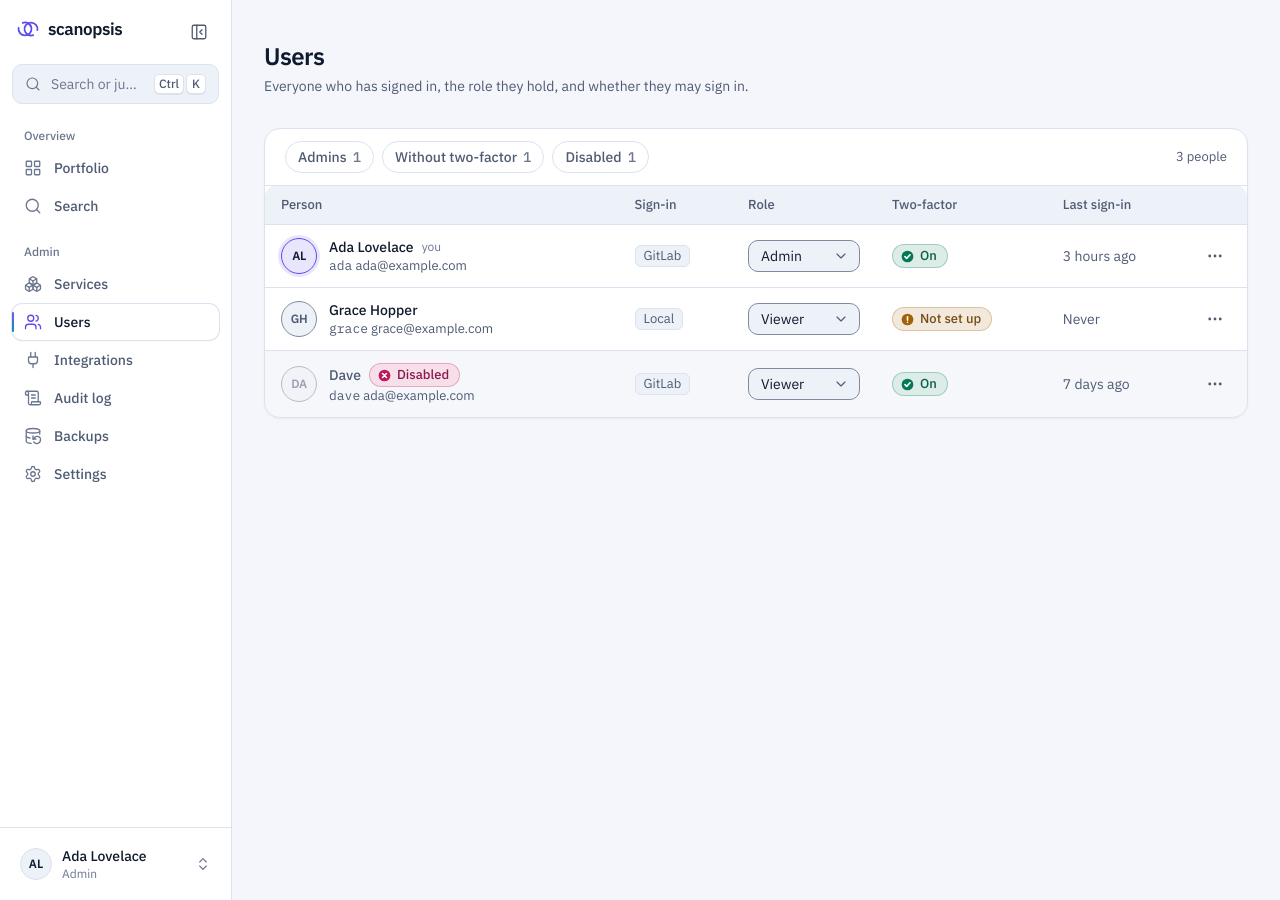
Scenario: users page › filters by admins, people without two-factor and disabled people
Expected: the table named "Users" is shown, [265, 186, 1247, 417]
Expected: the button "Without two-factor 1" is shown, [382, 141, 544, 173]
Click the button "Admins 1": [330, 157] box [285, 141, 374, 173]
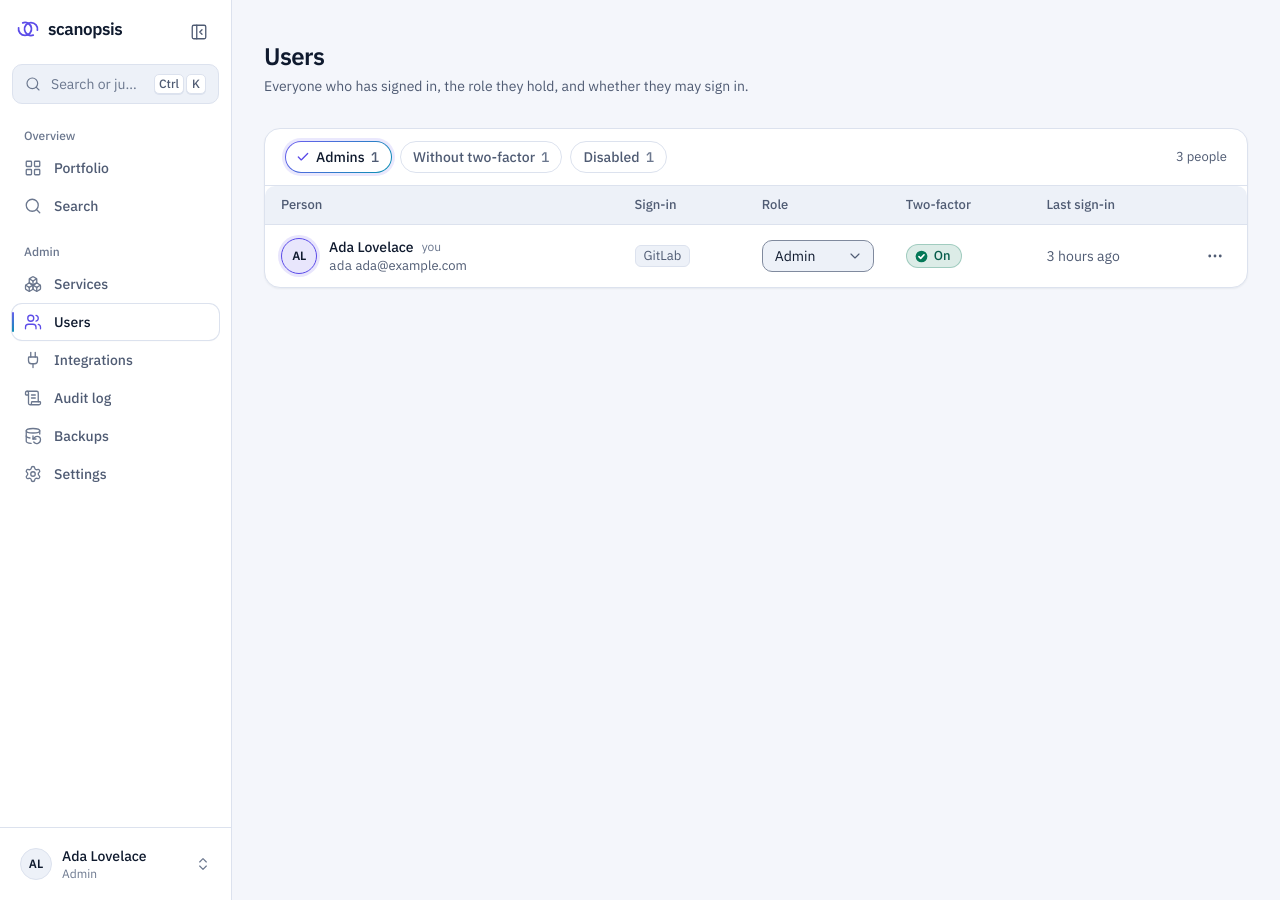
Expected: the number of rows is 2, [265, 186, 1247, 225]; [265, 225, 1247, 287]
Now the button "Admins 1" is pressed
Click the button "Admins 1": [338, 157] box [285, 141, 392, 173]
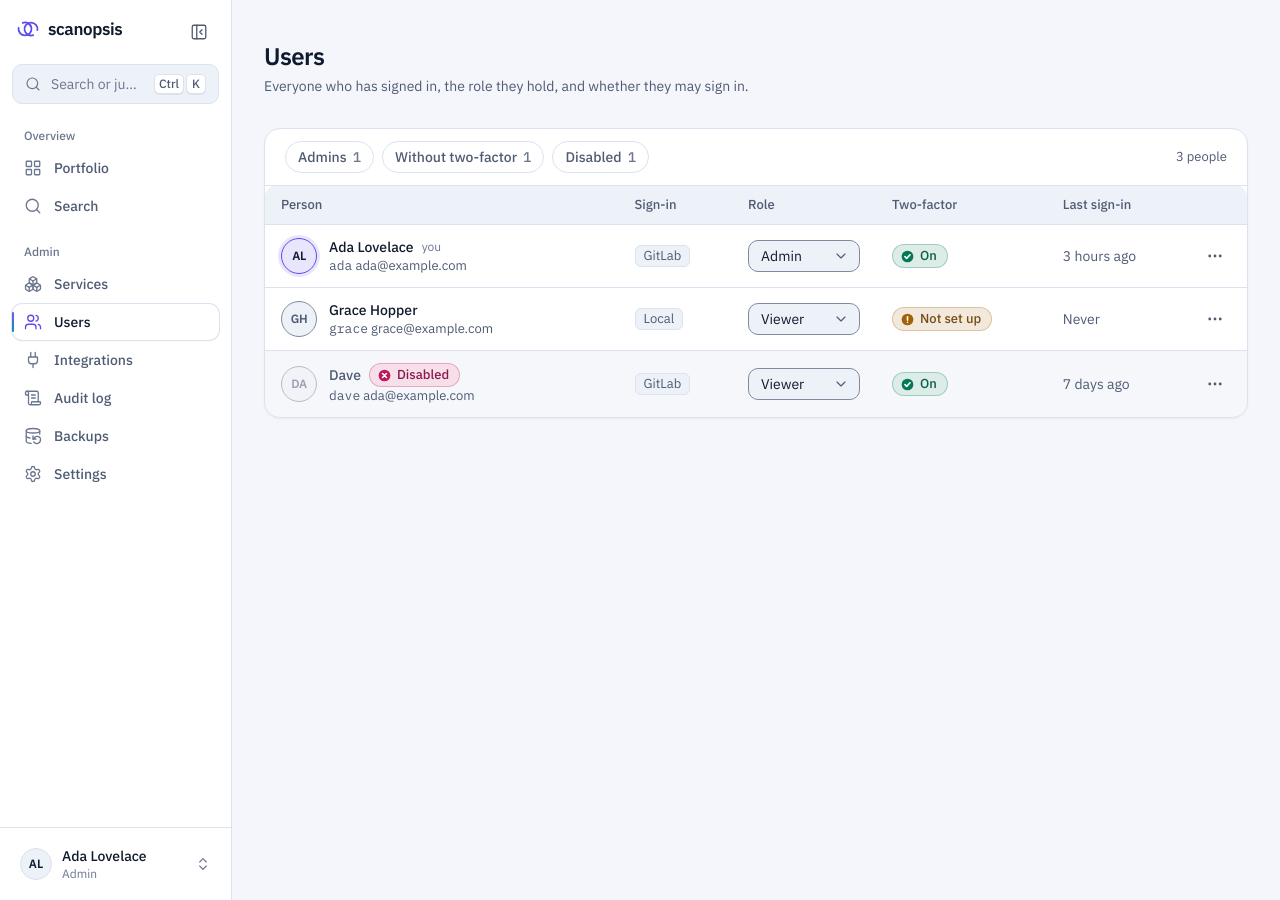
Click the button "Without two-factor 1": [463, 157] box [382, 141, 544, 173]
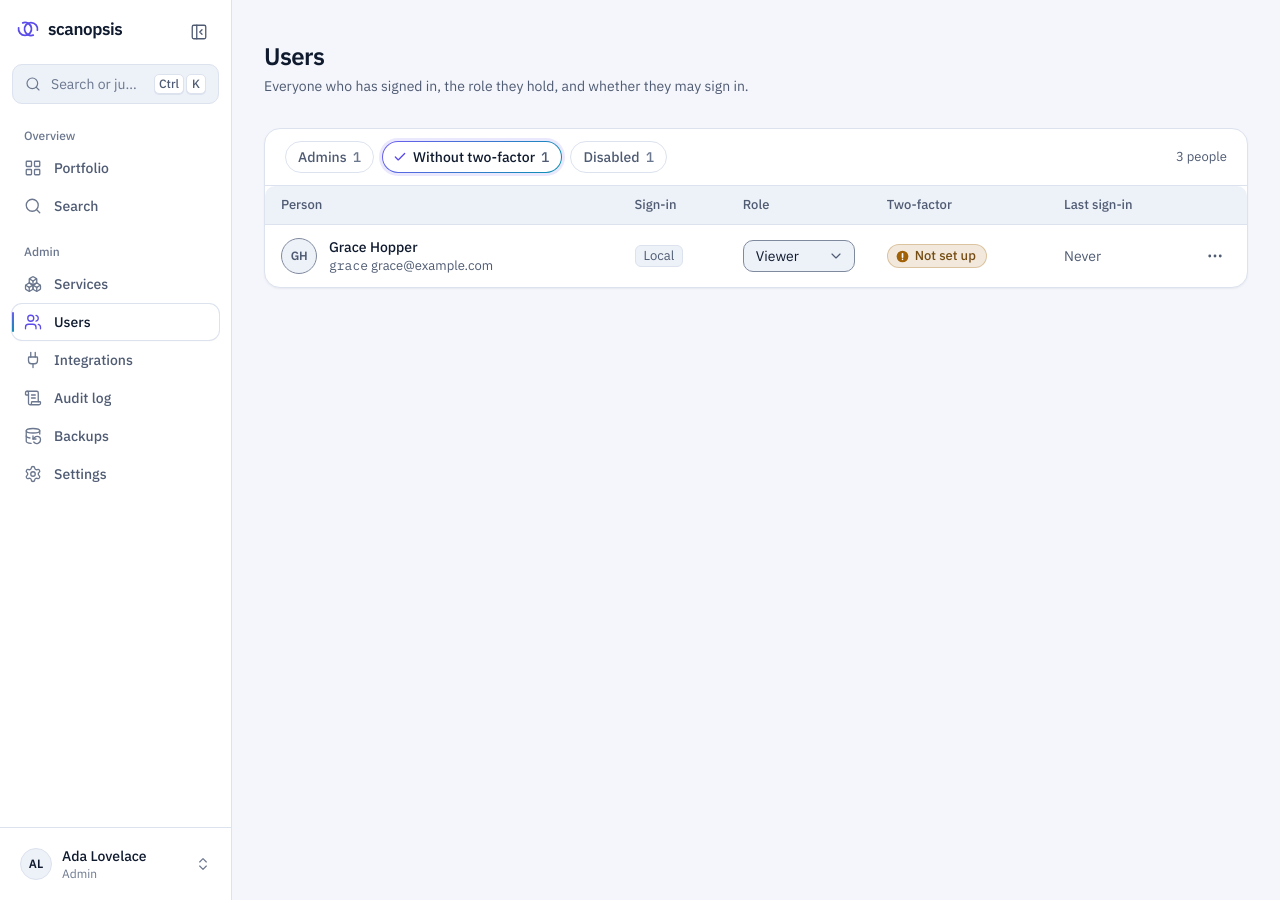
Expected: the number of rows is 2, [265, 186, 1247, 225]; [265, 225, 1247, 287]
Now the row "Grace Hopper" is shown, box [265, 225, 1247, 287]
Filters combine: nobody is both without two-factor and disabled.
Click the button "Disabled 1": [619, 157] box [570, 141, 667, 173]
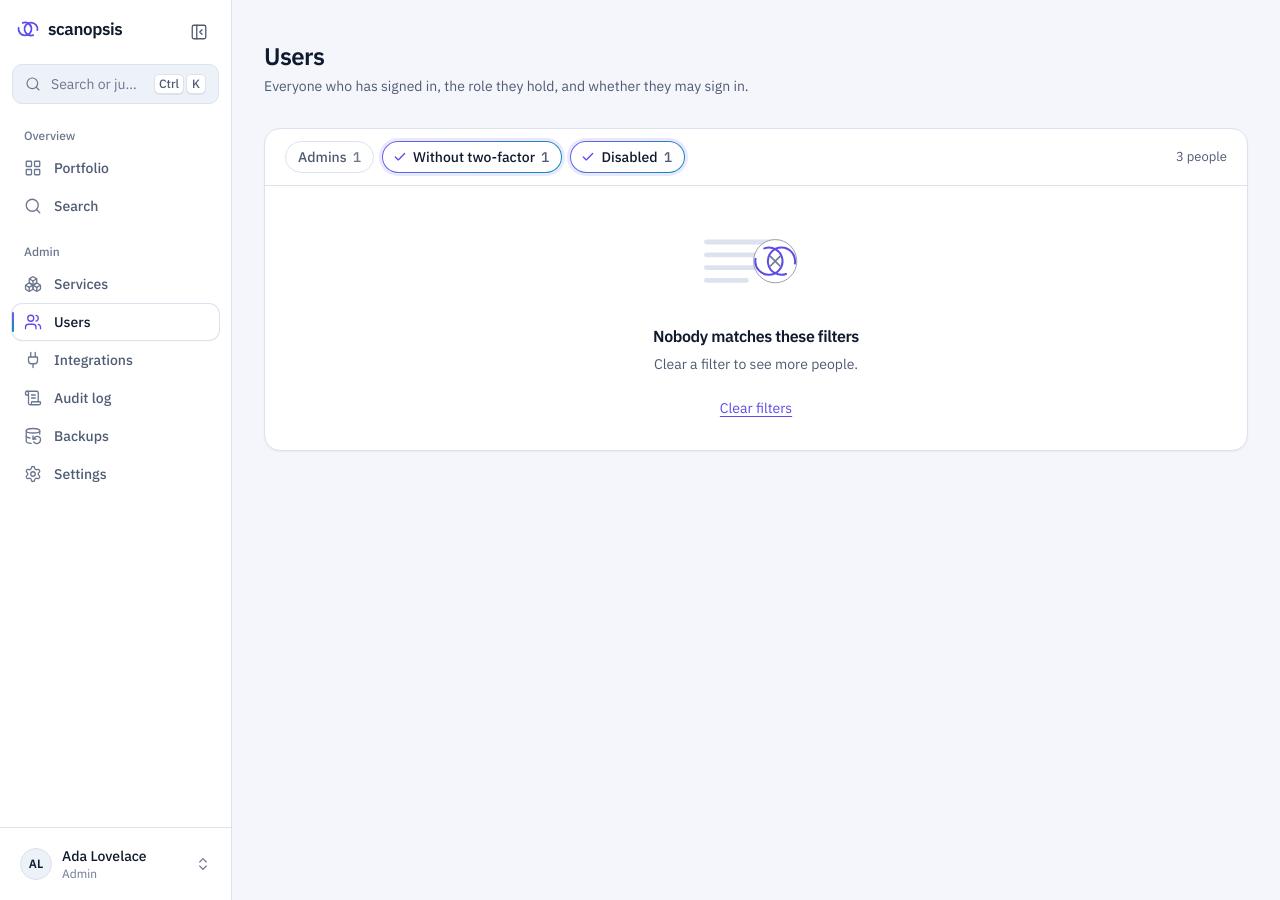
Now the table is gone
Now the heading "Nobody matches these filters" is shown, box [653, 324, 859, 348]
Click the button "Clear filters": [756, 408] box [720, 398, 792, 418]
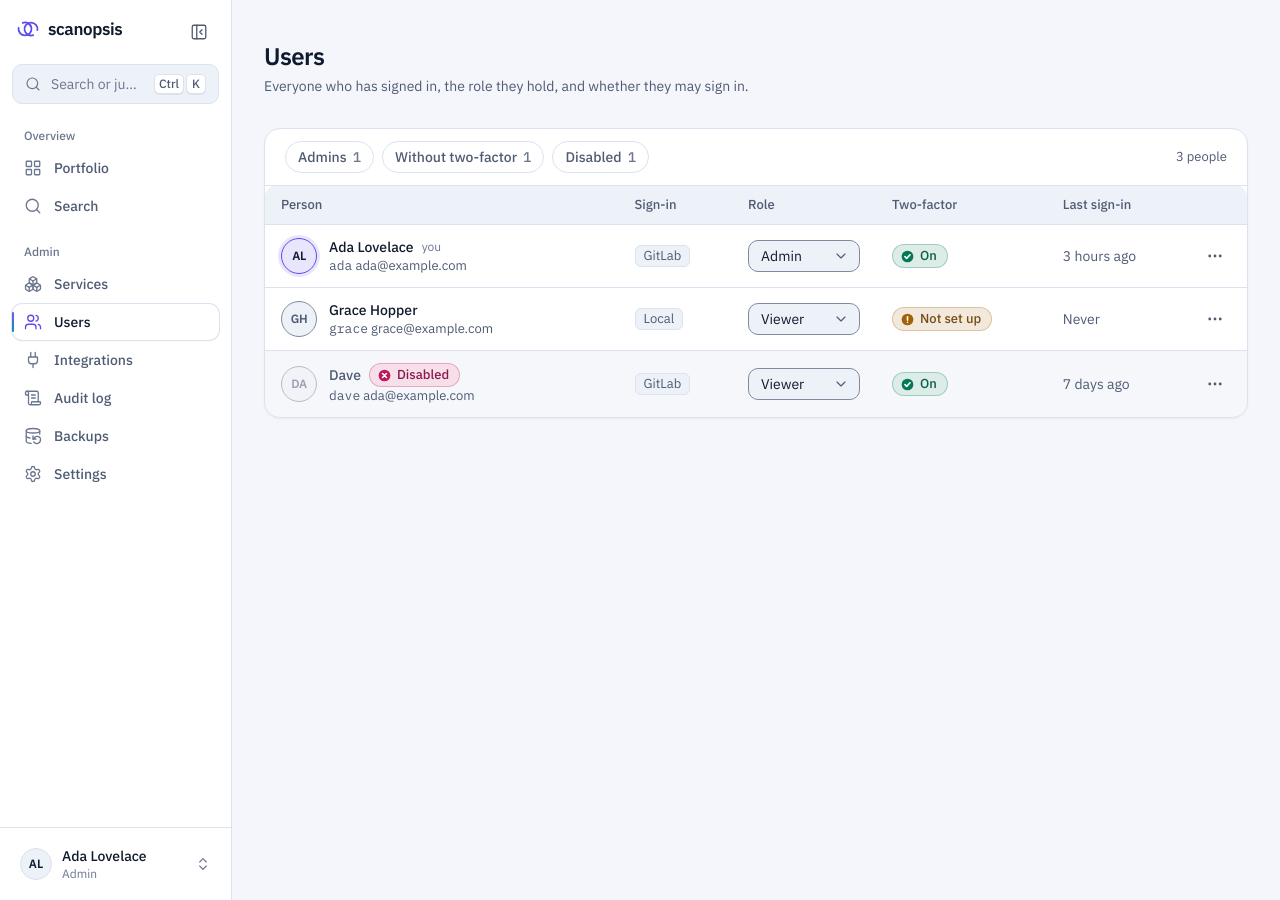
Now the number of rows is 4, box [265, 186, 1247, 225]; [265, 225, 1247, 288]; [265, 288, 1247, 351]; [265, 351, 1247, 417]
